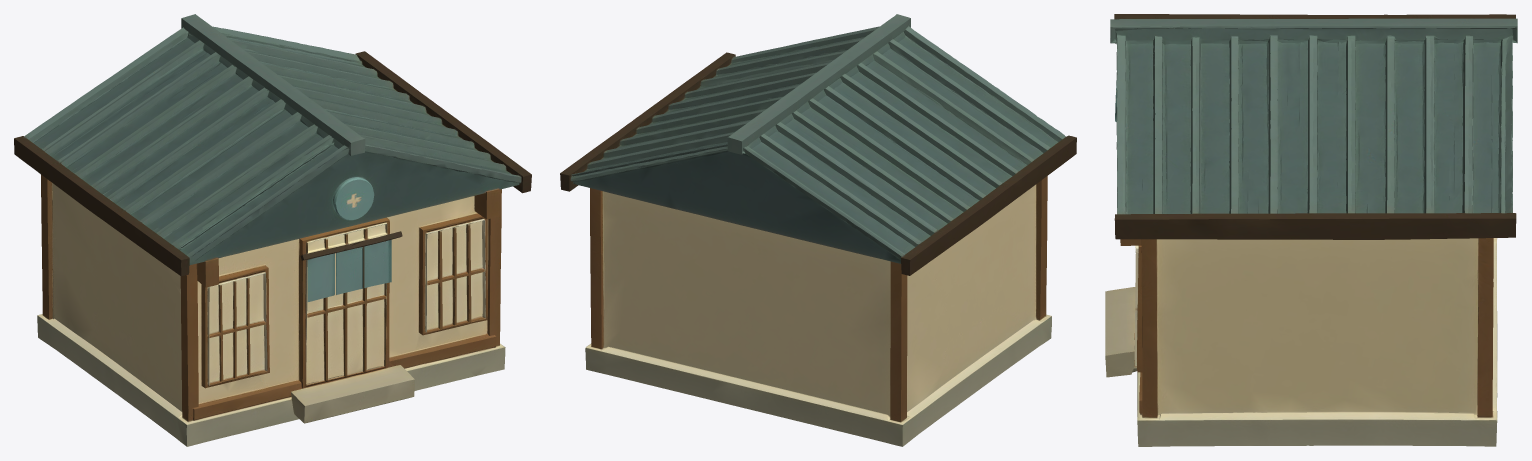
The picture shows the model from 3 angles, left to right: view 1: azimuth 30°, elevation 25°; view 2: azimuth 150°, elevation 25°; view 3: azimuth 270°, elevation 25°; orthographic projection. The views are drawn at different scales.
Visible parts, largest first — view 1: model; view 2: model; view 3: model.
Boxes of the visible parts, box(x1,y1,x2,y2) form: model: box(14, 14, 531, 446); model: box(560, 14, 1076, 446); model: box(1105, 14, 1517, 446).
Bounding box in the file's own units: 1.89 × 1.42 × 1.6.
Materials: 1 (1 with a texture image).
